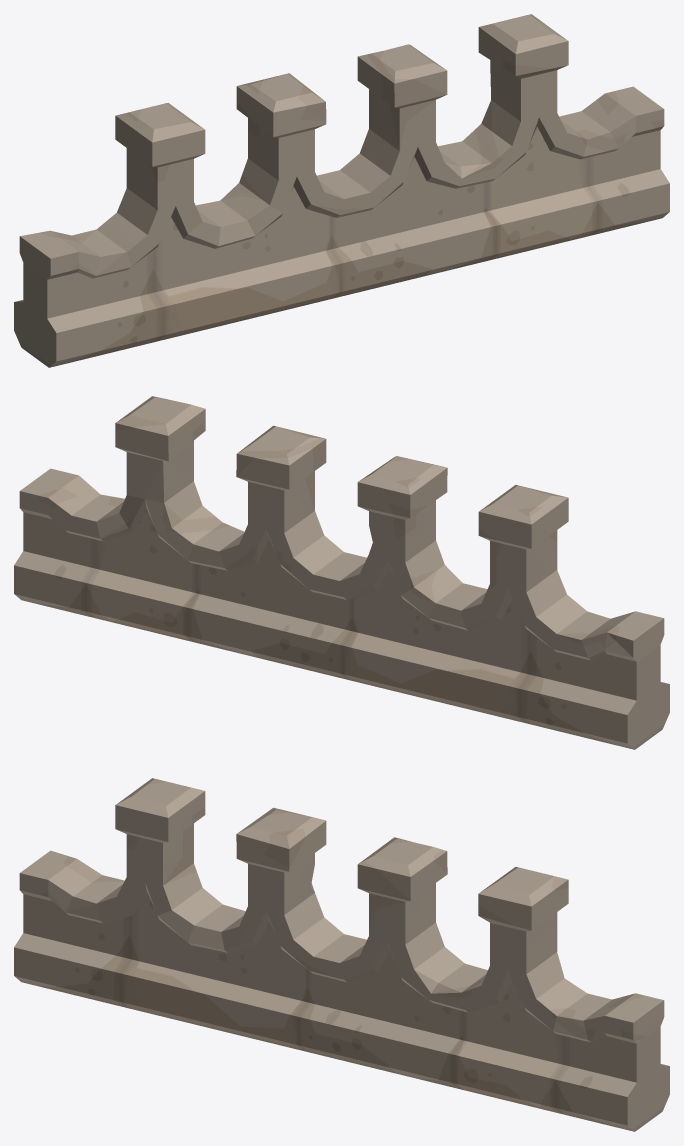
Rendered from SM_Bld_Fort_Railing_01.fbx.
The picture shows the model from 3 angles, top to bottom: view 1: azimuth 30°, elevation 25°; view 2: azimuth 150°, elevation 25°; view 3: azimuth 330°, elevation 25°; orthographic projection.
Parts seen in each view (by area): view 1: SM_Bld_Fort_Railing_01; view 2: SM_Bld_Fort_Railing_01; view 3: SM_Bld_Fort_Railing_01.
Part boxes in pixels (bbox=[...]): SM_Bld_Fort_Railing_01: bbox=[14, 14, 669, 367]; SM_Bld_Fort_Railing_01: bbox=[14, 396, 669, 749]; SM_Bld_Fort_Railing_01: bbox=[14, 778, 669, 1131].
Size of the model in its own units: 500 by 164 by 59.9.
